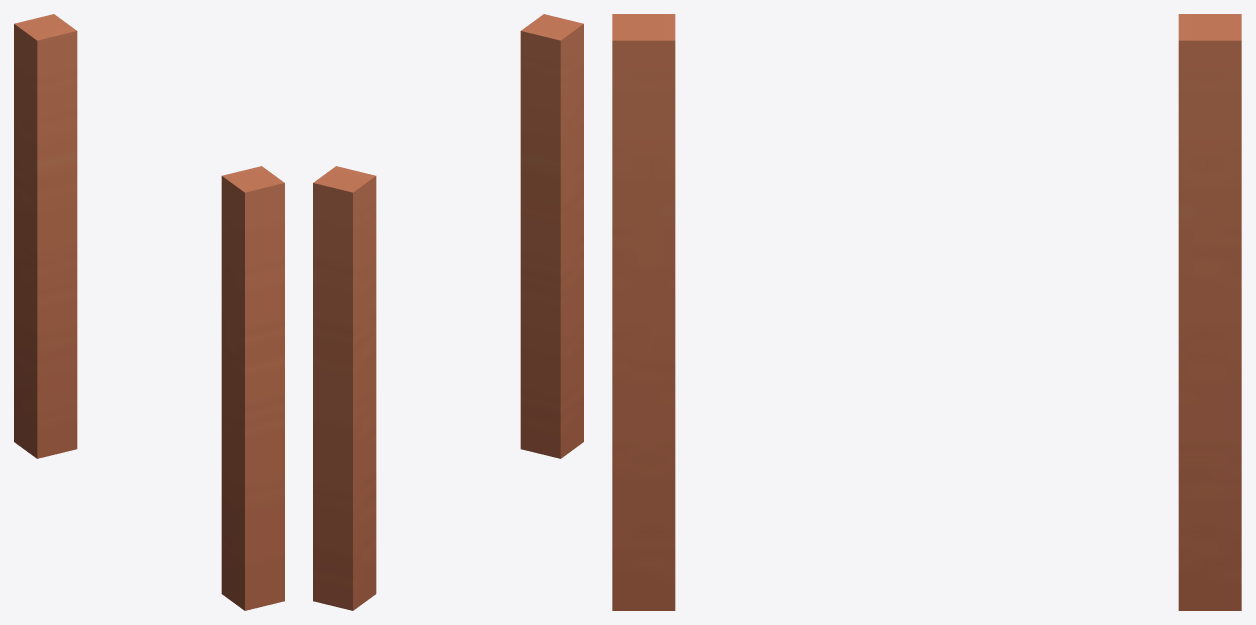
Rendered from poles.fbx.
3 views of the same model, side by side, from view 1: azimuth 30°, elevation 25°; view 2: azimuth 150°, elevation 25°; view 3: azimuth 270°, elevation 25° (orthographic). The views are drawn at different scales.
Visible parts, largest first — view 1: poles; view 2: poles; view 3: poles.
Part boxes in pixels (x1,y1,x2,y2): poles: (14, 14, 284, 610); poles: (313, 14, 583, 610); poles: (612, 14, 1241, 610).
Size of the model in its own units: 0.1 by 1 by 1.
